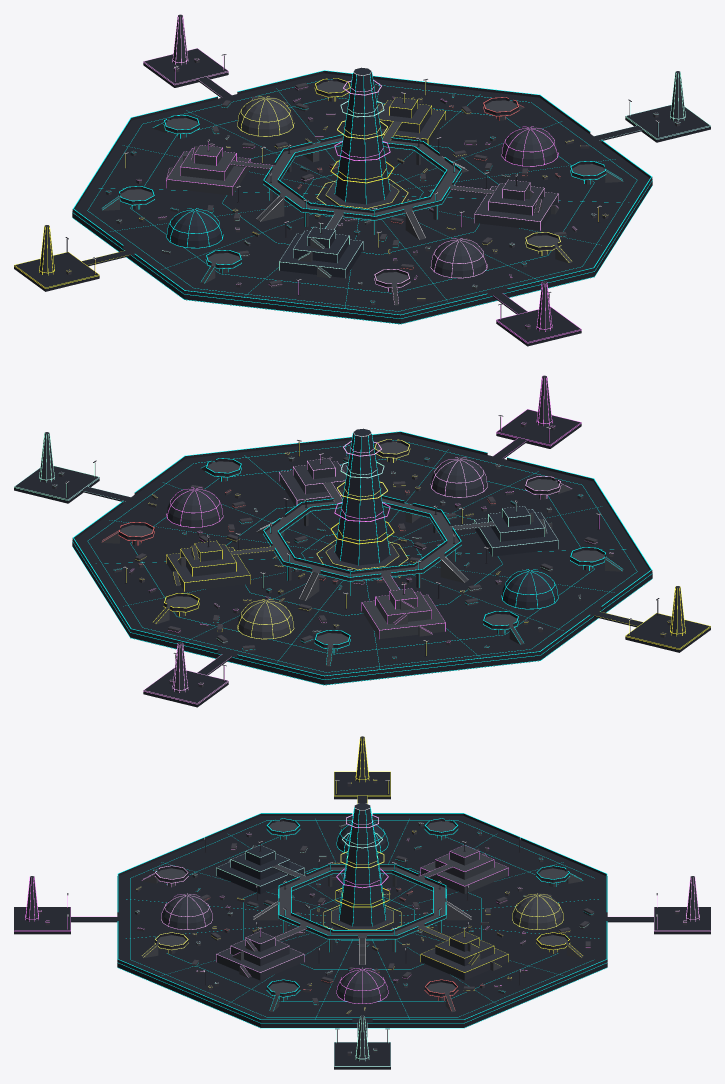
Rendered from br_nexus.glb.
3 views of the same model, one above another, from view 1: azimuth 30°, elevation 25°; view 2: azimuth 150°, elevation 25°; view 3: azimuth 270°, elevation 25° (orthographic). The views are drawn at different scales.
Parts seen in each view (by area): view 1: Ground, Structures, Trim, Cover; view 2: Ground, Structures, Trim, Cover; view 3: Ground, Structures, Trim, Cover.
Boxes of the visible parts, x1,y1,x2,y2 form: Ground: (14, 48, 710, 346); Structures: (39, 14, 685, 331); Trim: (14, 16, 710, 343); Cover: (66, 58, 680, 329); Ground: (14, 409, 710, 707); Structures: (39, 375, 685, 692); Trim: (14, 377, 710, 704); Cover: (52, 422, 671, 687); Ground: (14, 772, 710, 1069); Structures: (26, 736, 698, 1061); Trim: (14, 737, 710, 1066); Cover: (38, 779, 686, 1055).
Size of the model in its own units: 270 by 50.56 by 270.
